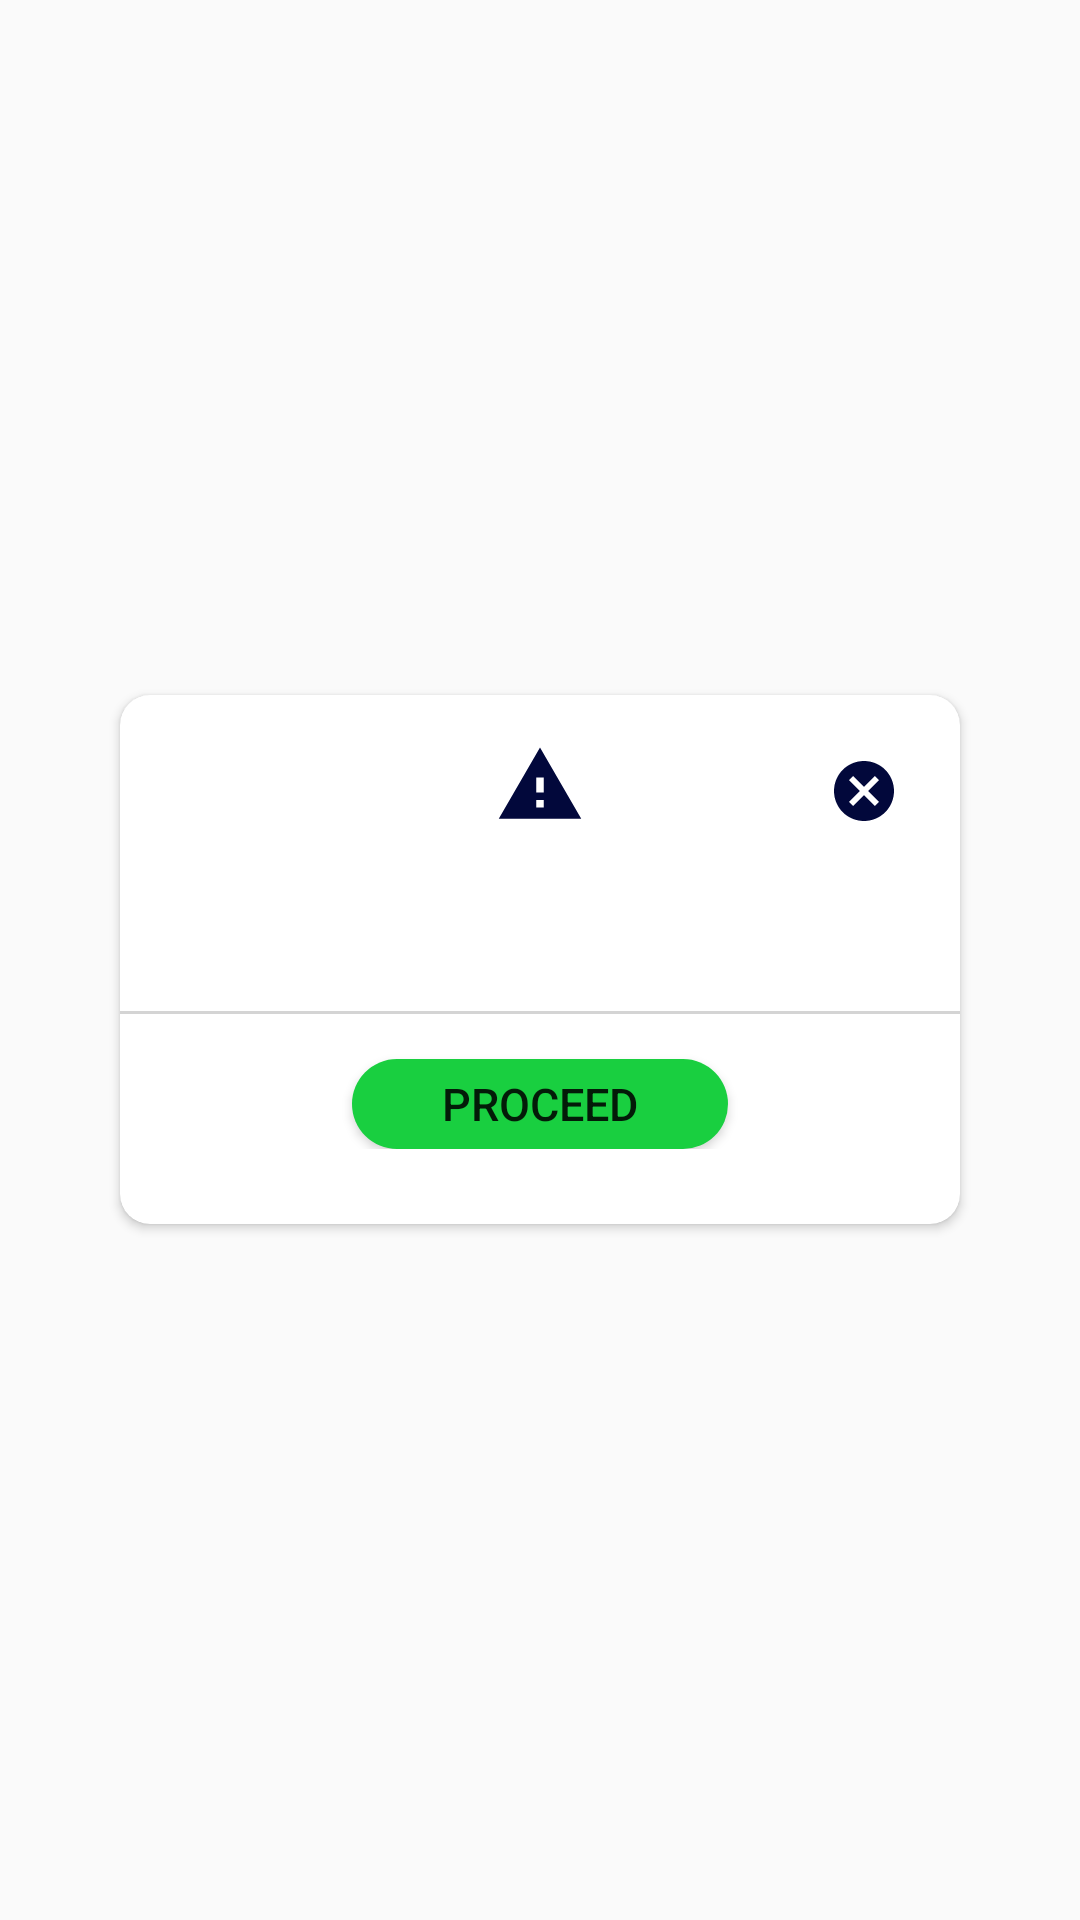

Icon click points for this 1080w x 1920h phone screenshot, format point (x, y):
cancel: point (864, 791)
warning: point (540, 783)
